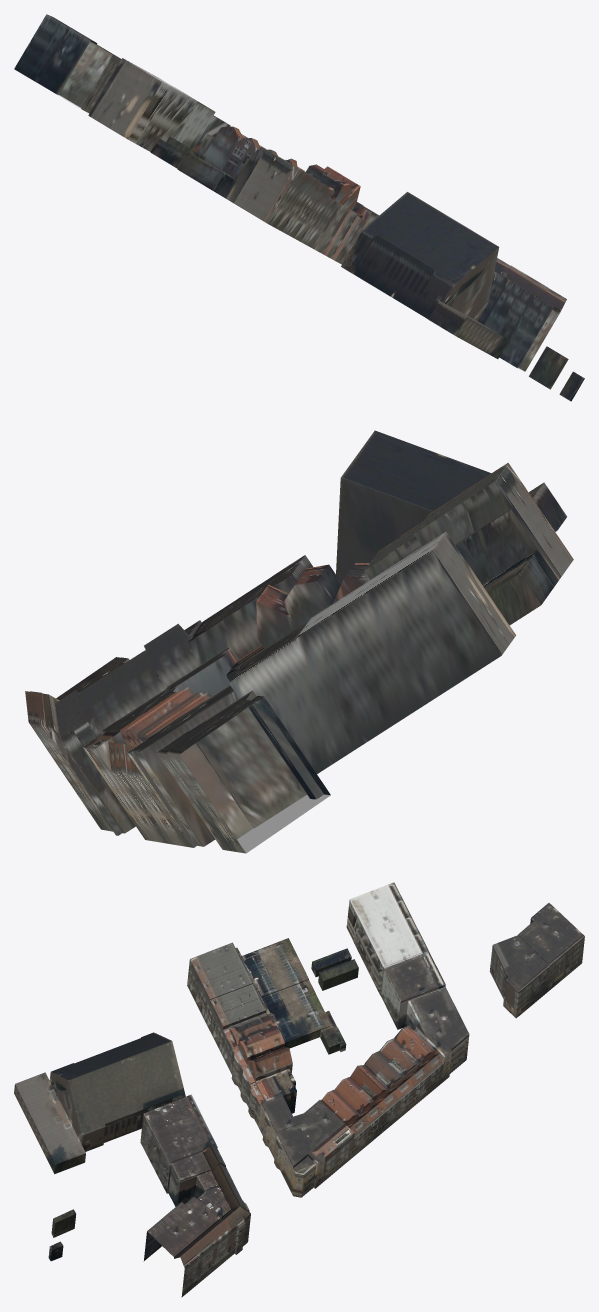
3 renders of one model, top to bottom at view 1: azimuth 30°, elevation 25°; view 2: azimuth 150°, elevation 25°; view 3: azimuth 270°, elevation 25°, orthographic. The views are drawn at different scales.
Visible parts, largest first — view 1: mesh; view 2: mesh; view 3: mesh.
Part boxes in pixels (left/top/right/bottom): mesh: left=14, top=14, right=584, bottom=401; mesh: left=25, top=430, right=573, bottom=853; mesh: left=14, top=882, right=584, bottom=1297.
Size of the model in its own units: 94.56 by 74.39 by 136.
Materials: 92 (91 with a texture image).
